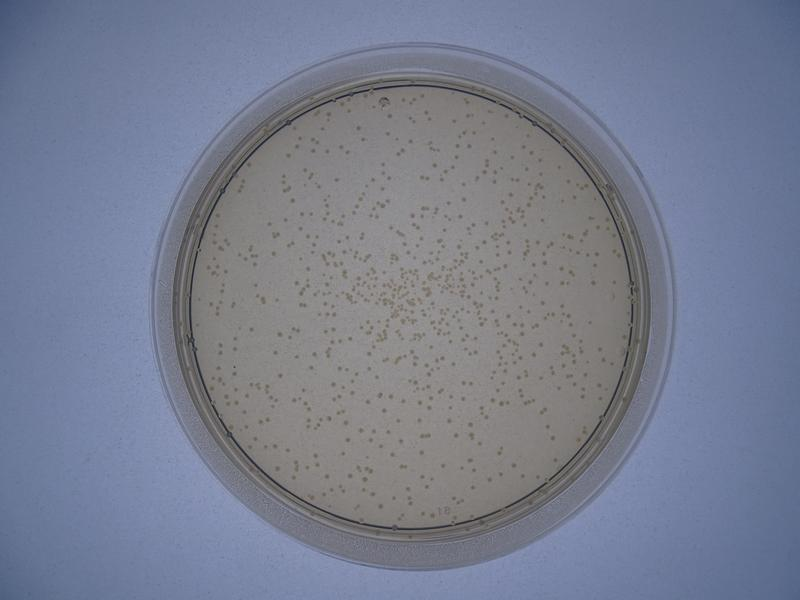colony: (324, 169, 342, 186), (348, 119, 367, 135), (374, 124, 393, 139), (547, 432, 563, 448), (339, 431, 354, 448), (359, 393, 373, 410), (259, 216, 278, 228), (248, 274, 262, 290), (286, 193, 300, 209), (435, 460, 452, 473), (534, 216, 552, 228), (585, 275, 599, 290), (474, 253, 488, 268), (593, 340, 607, 355), (479, 215, 495, 228), (458, 392, 471, 408), (242, 322, 259, 334), (463, 479, 477, 493), (456, 176, 469, 191), (342, 331, 357, 344), (263, 246, 279, 258), (411, 414, 427, 426), (280, 212, 291, 229), (457, 193, 471, 206), (393, 432, 406, 446), (273, 368, 286, 382), (305, 361, 318, 375), (527, 256, 540, 270), (423, 341, 437, 354), (272, 325, 284, 340), (269, 346, 281, 361), (537, 294, 549, 309), (376, 405, 391, 417), (416, 446, 431, 458), (405, 206, 417, 221), (290, 348, 301, 364), (320, 145, 333, 158), (392, 415, 405, 428), (307, 347, 320, 360), (400, 480, 413, 493), (505, 456, 518, 469), (302, 261, 314, 275), (556, 297, 568, 311), (362, 346, 374, 360), (568, 190, 580, 204), (361, 362, 375, 374), (551, 381, 563, 395), (576, 391, 588, 405), (405, 136, 420, 147), (409, 396, 424, 407), (590, 260, 602, 273), (464, 140, 476, 153), (339, 415, 352, 427), (538, 418, 551, 430), (534, 337, 547, 349), (527, 349, 539, 362), (447, 358, 460, 370), (495, 194, 507, 207), (365, 172, 378, 184), (373, 499, 386, 511), (494, 466, 506, 479), (420, 481, 433, 493), (416, 505, 428, 518), (337, 448, 348, 462), (386, 447, 397, 461), (376, 157, 391, 167), (451, 428, 463, 440), (455, 211, 467, 223), (385, 391, 397, 403), (412, 240, 424, 252), (489, 249, 501, 261), (537, 370, 546, 386), (428, 160, 441, 171), (584, 316, 595, 329), (444, 412, 455, 425), (443, 196, 454, 209), (282, 444, 293, 456), (297, 383, 309, 394), (444, 336, 455, 348), (356, 136, 370, 145), (512, 302, 526, 311), (444, 392, 456, 402), (543, 278, 552, 291), (504, 310, 513, 322), (329, 378, 338, 390), (503, 236, 513, 246), (438, 225, 448, 235), (376, 185, 387, 194)
